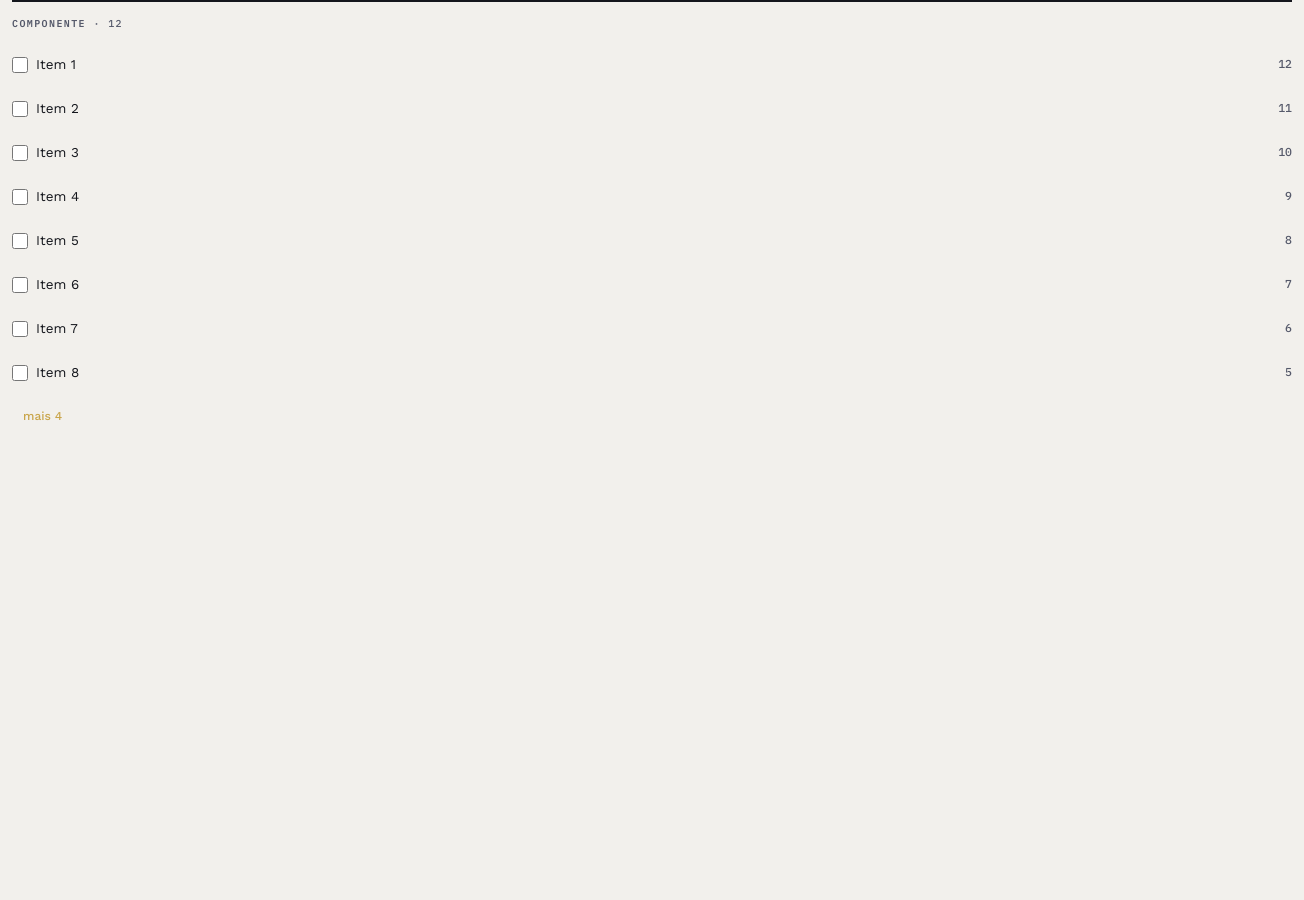
Test case: GrupoFiltro › expandir mostra os 12, e o botão passa a recolher
This screenshot has width=1304, height=900.
Step 1. Click the button "mais 4" → (43, 416), box [12,394,73,438]
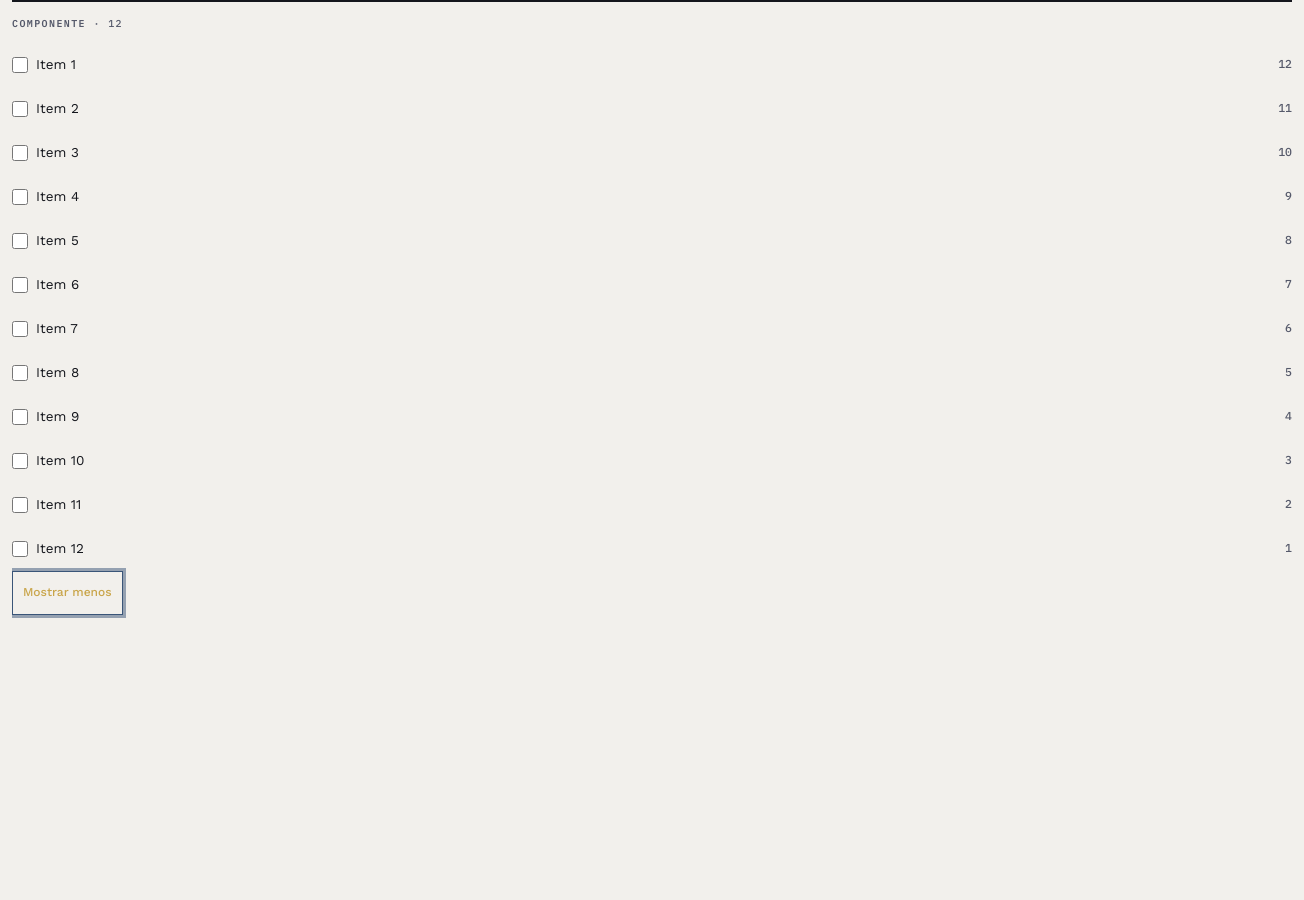
Now the button "Mostrar menos" is shown, box [12,570,123,614]
